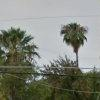Palm tree: (52, 16, 95, 68)
